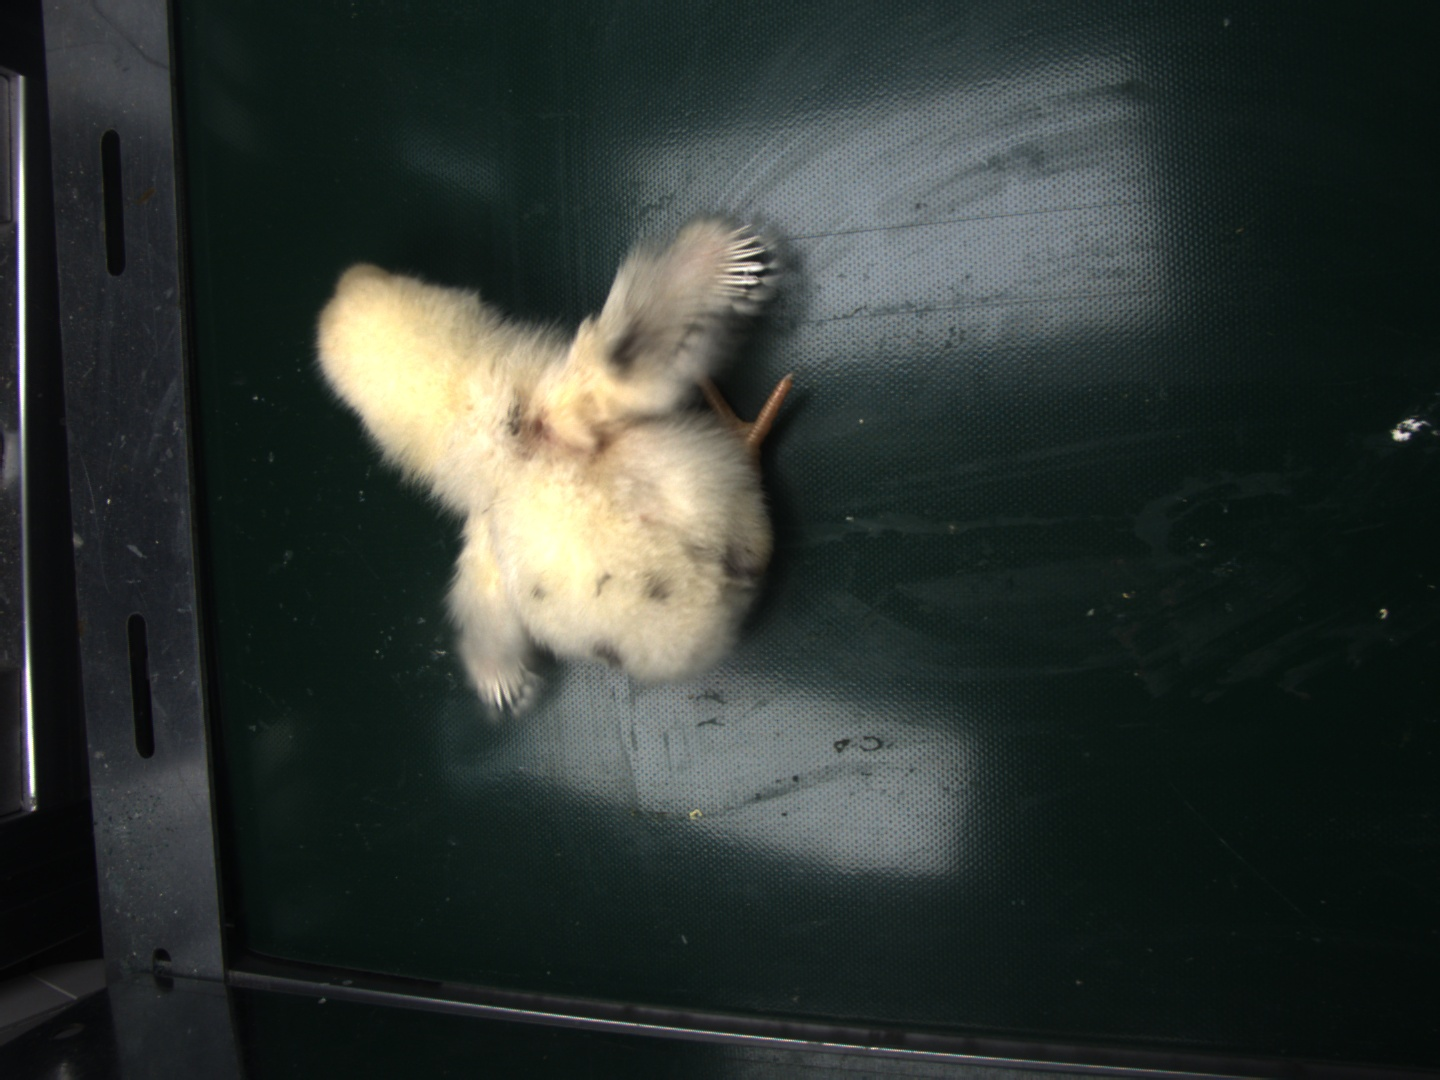male: (715, 219, 770, 309)
